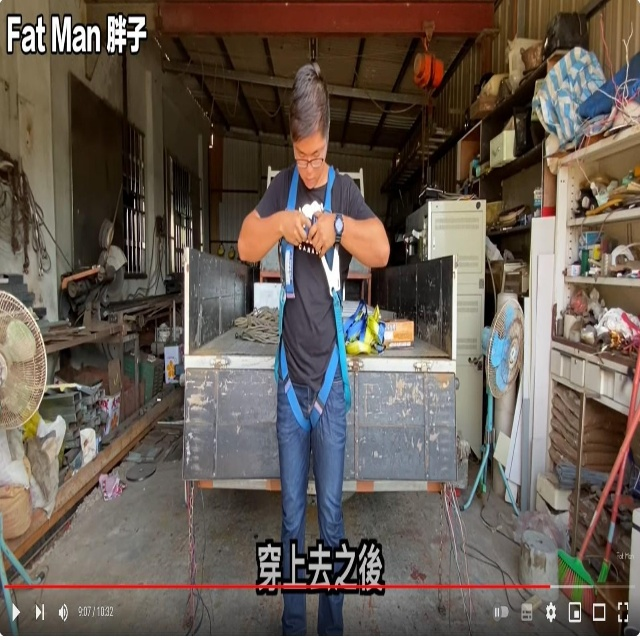Arnes_seguridad: (275, 161, 351, 434)
